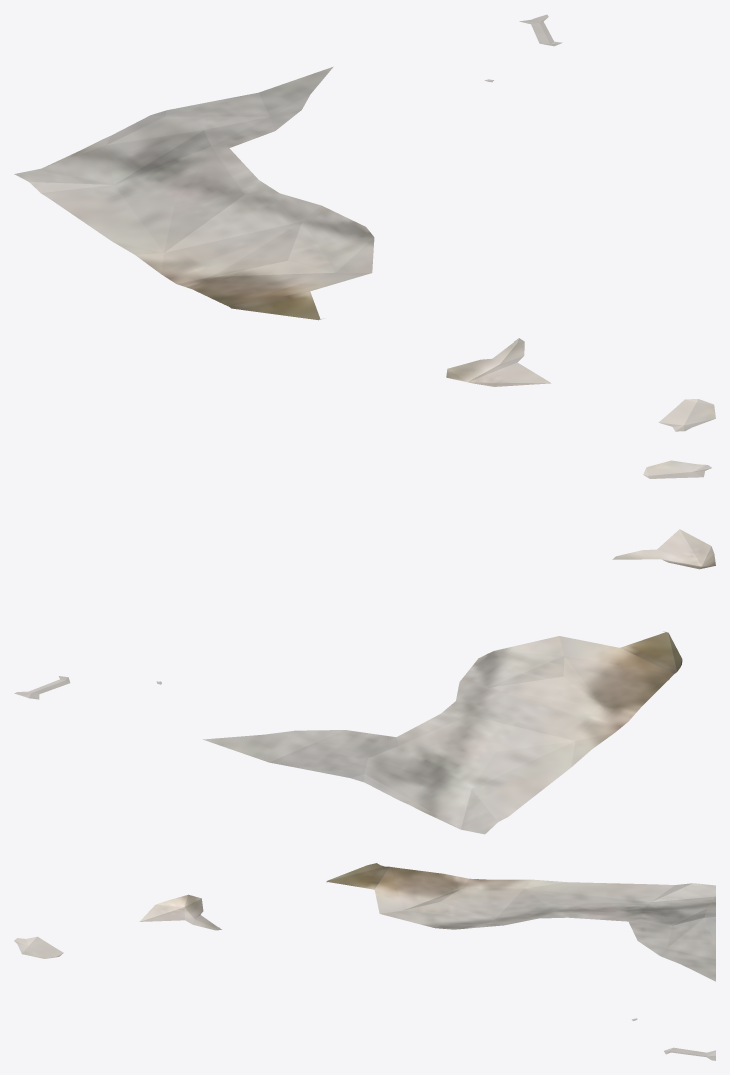
3 renders of one model, top to bottom at view 1: azimuth 30°, elevation 25°; view 2: azimuth 150°, elevation 25°; view 3: azimuth 270°, elevation 25°, orthographic. The views are drawn at different scales.
Bounding box in the file's own units: 1.11 × 0.0609 × 1.66.
Materials: 1 (1 with a texture image).
